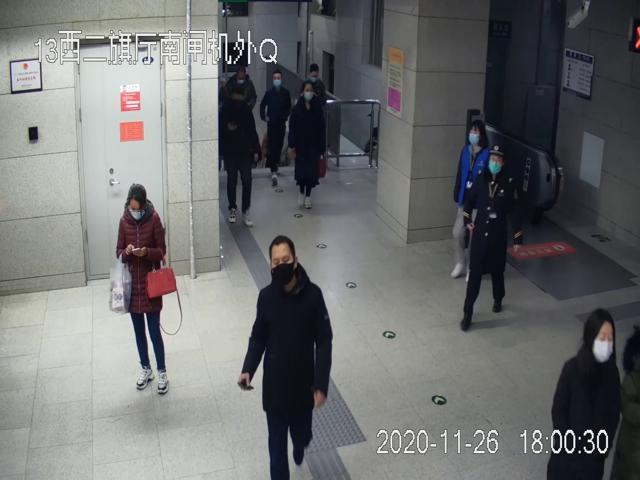person: (238, 233, 333, 479), (110, 184, 176, 395), (461, 140, 521, 333), (452, 119, 492, 279), (289, 82, 327, 210), (259, 70, 289, 188)
